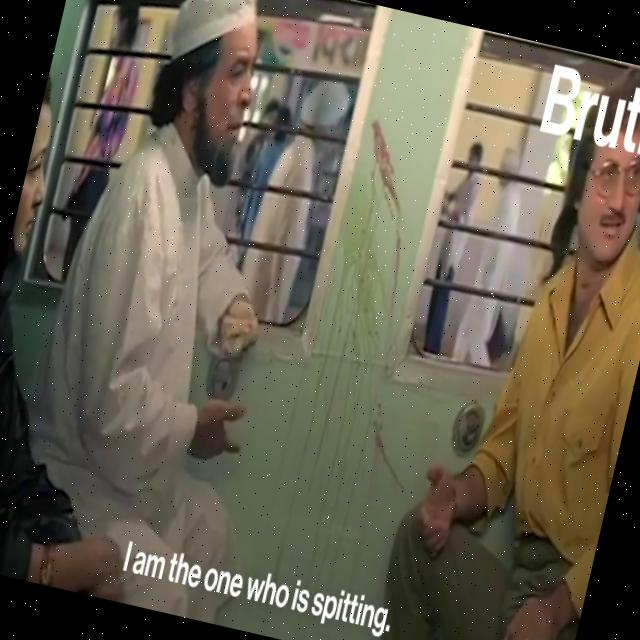spit: (298, 110, 454, 380)
